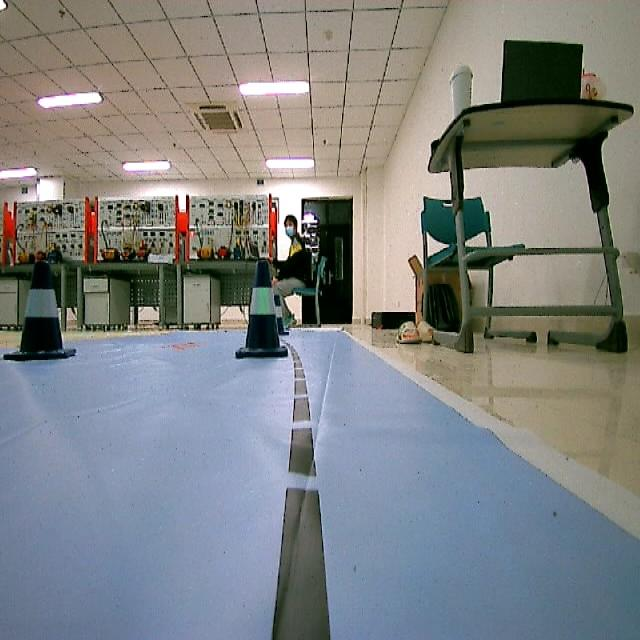obstacle: (5, 260, 76, 368), (232, 259, 286, 360)
